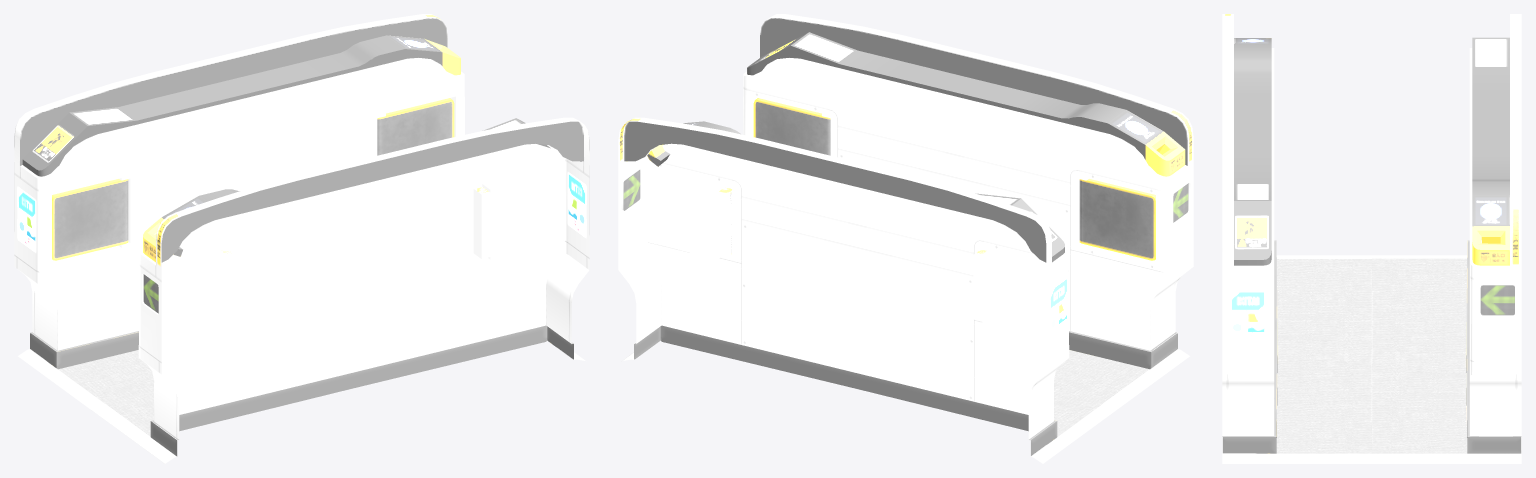
The model's file is SM_TicketGate_01.fbx.
3 renders of one model, left to right at view 1: azimuth 30°, elevation 25°; view 2: azimuth 150°, elevation 25°; view 3: azimuth 270°, elevation 25°, orthographic.
Visible parts, largest first — view 1: SM_TicketGate_01_LOD0; view 2: SM_TicketGate_01_LOD0; view 3: SM_TicketGate_01_LOD0.
Part boxes in pixels (bbox=[...]): SM_TicketGate_01_LOD0: bbox=[14, 14, 589, 463]; SM_TicketGate_01_LOD0: bbox=[618, 14, 1193, 463]; SM_TicketGate_01_LOD0: bbox=[1222, 14, 1521, 463].
Bounding box in the file's own units: 218 × 130 × 122.
